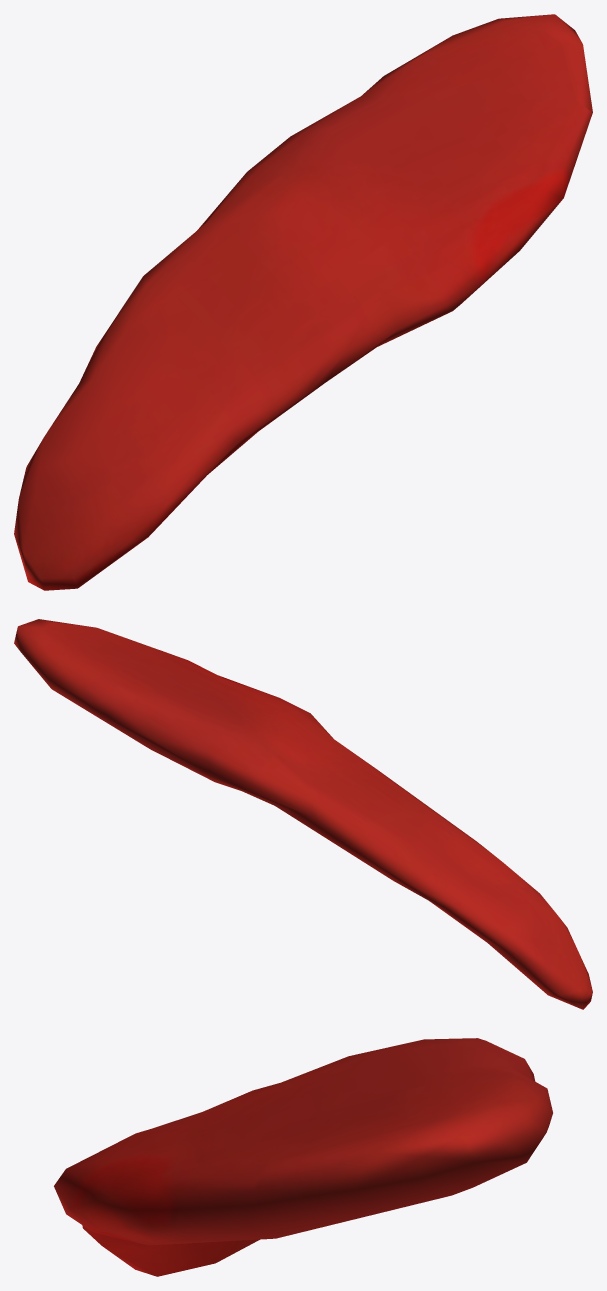
The model's file is Face_Mucle_14.glb.
3 renders of one model, top to bottom at view 1: azimuth 30°, elevation 25°; view 2: azimuth 150°, elevation 25°; view 3: azimuth 270°, elevation 25°, orthographic. The views are drawn at different scales.
Parts seen in each view (by area): view 1: Face_Mucle_14; view 2: Face_Mucle_14; view 3: Face_Mucle_14.
Boxes of the visible parts, bbox=[...] form: Face_Mucle_14: bbox=[14, 14, 592, 590]; Face_Mucle_14: bbox=[14, 619, 592, 1009]; Face_Mucle_14: bbox=[54, 1038, 552, 1276].
Size of the model in its own units: 0.155 by 0.089 by 0.0656.
Materials: 1 (1 with a texture image).
